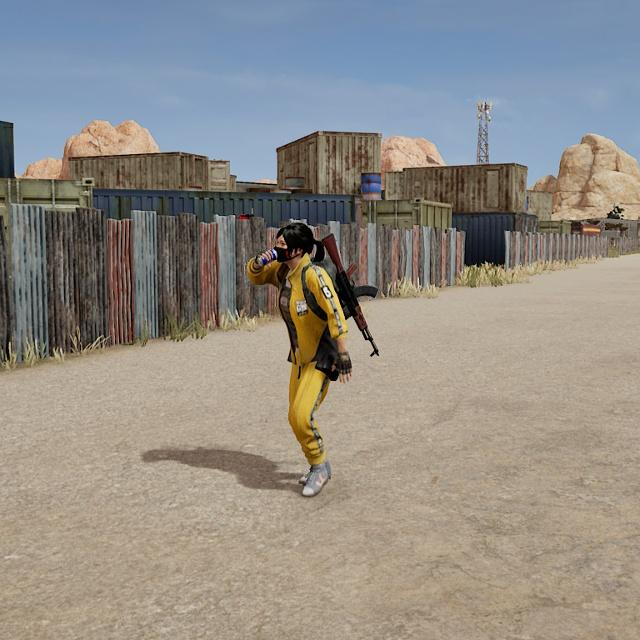head: (273, 220, 315, 268)
people: (244, 220, 355, 499)
